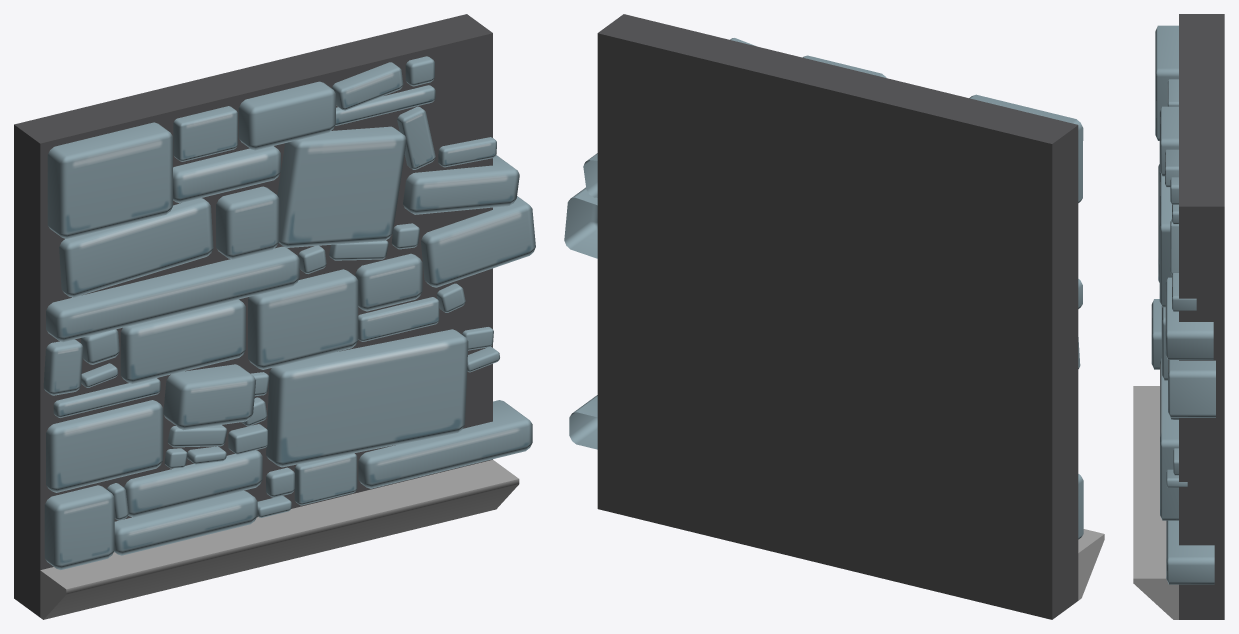
Rendered from Edge Wall Left Textured.fbx.
3 views of the same model, side by side, from view 1: azimuth 30°, elevation 25°; view 2: azimuth 150°, elevation 25°; view 3: azimuth 270°, elevation 25° (orthographic). The views are drawn at different scales.
Visible parts, largest first — view 1: Edge_Wall_Left; view 2: Edge_Wall_Left; view 3: Edge_Wall_Left.
Boxes of the visible parts, x1=… form: Edge_Wall_Left: x1=14, y1=14, x2=535, y2=619; Edge_Wall_Left: x1=564, y1=14, x2=1104, y2=619; Edge_Wall_Left: x1=1133, y1=14, x2=1224, y2=619.
Bounding box in the file's own units: 10.84 × 10 × 2.
